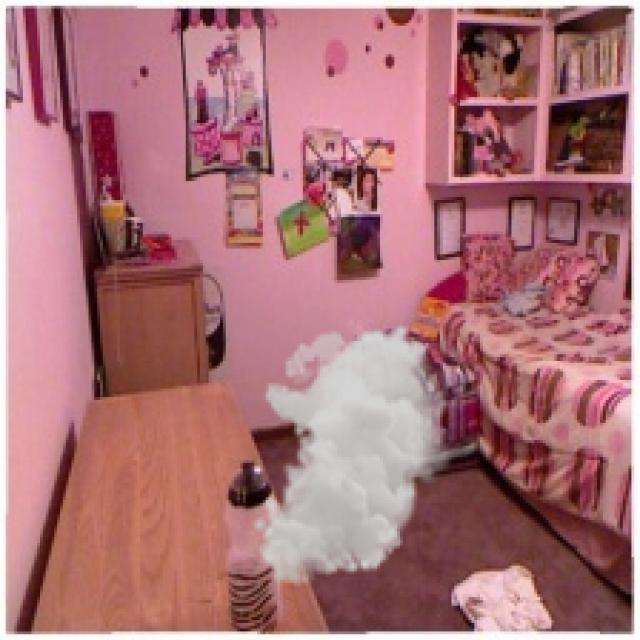Smoke: (252, 323, 457, 586)
